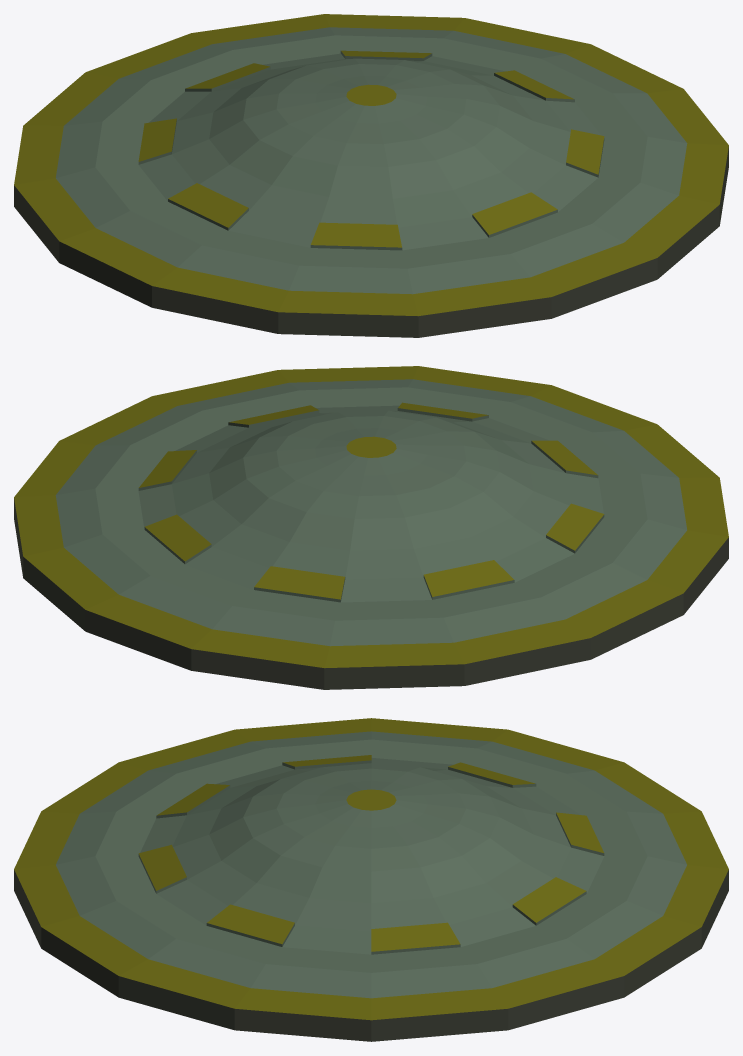
Rendered from stabilize.fbx.
The picture shows the model from 3 angles, top to bottom: view 1: azimuth 30°, elevation 25°; view 2: azimuth 150°, elevation 25°; view 3: azimuth 270°, elevation 25°; orthographic projection.
Visible parts, largest first — view 1: Stabilize; view 2: Stabilize; view 3: Stabilize.
Boxes of the visible parts, <box> form: Stabilize: <box>14,14,728,337</box>; Stabilize: <box>14,366,728,689</box>; Stabilize: <box>14,718,728,1041</box>.
Bounding box in the file's own units: 150 × 23.33 × 150.
